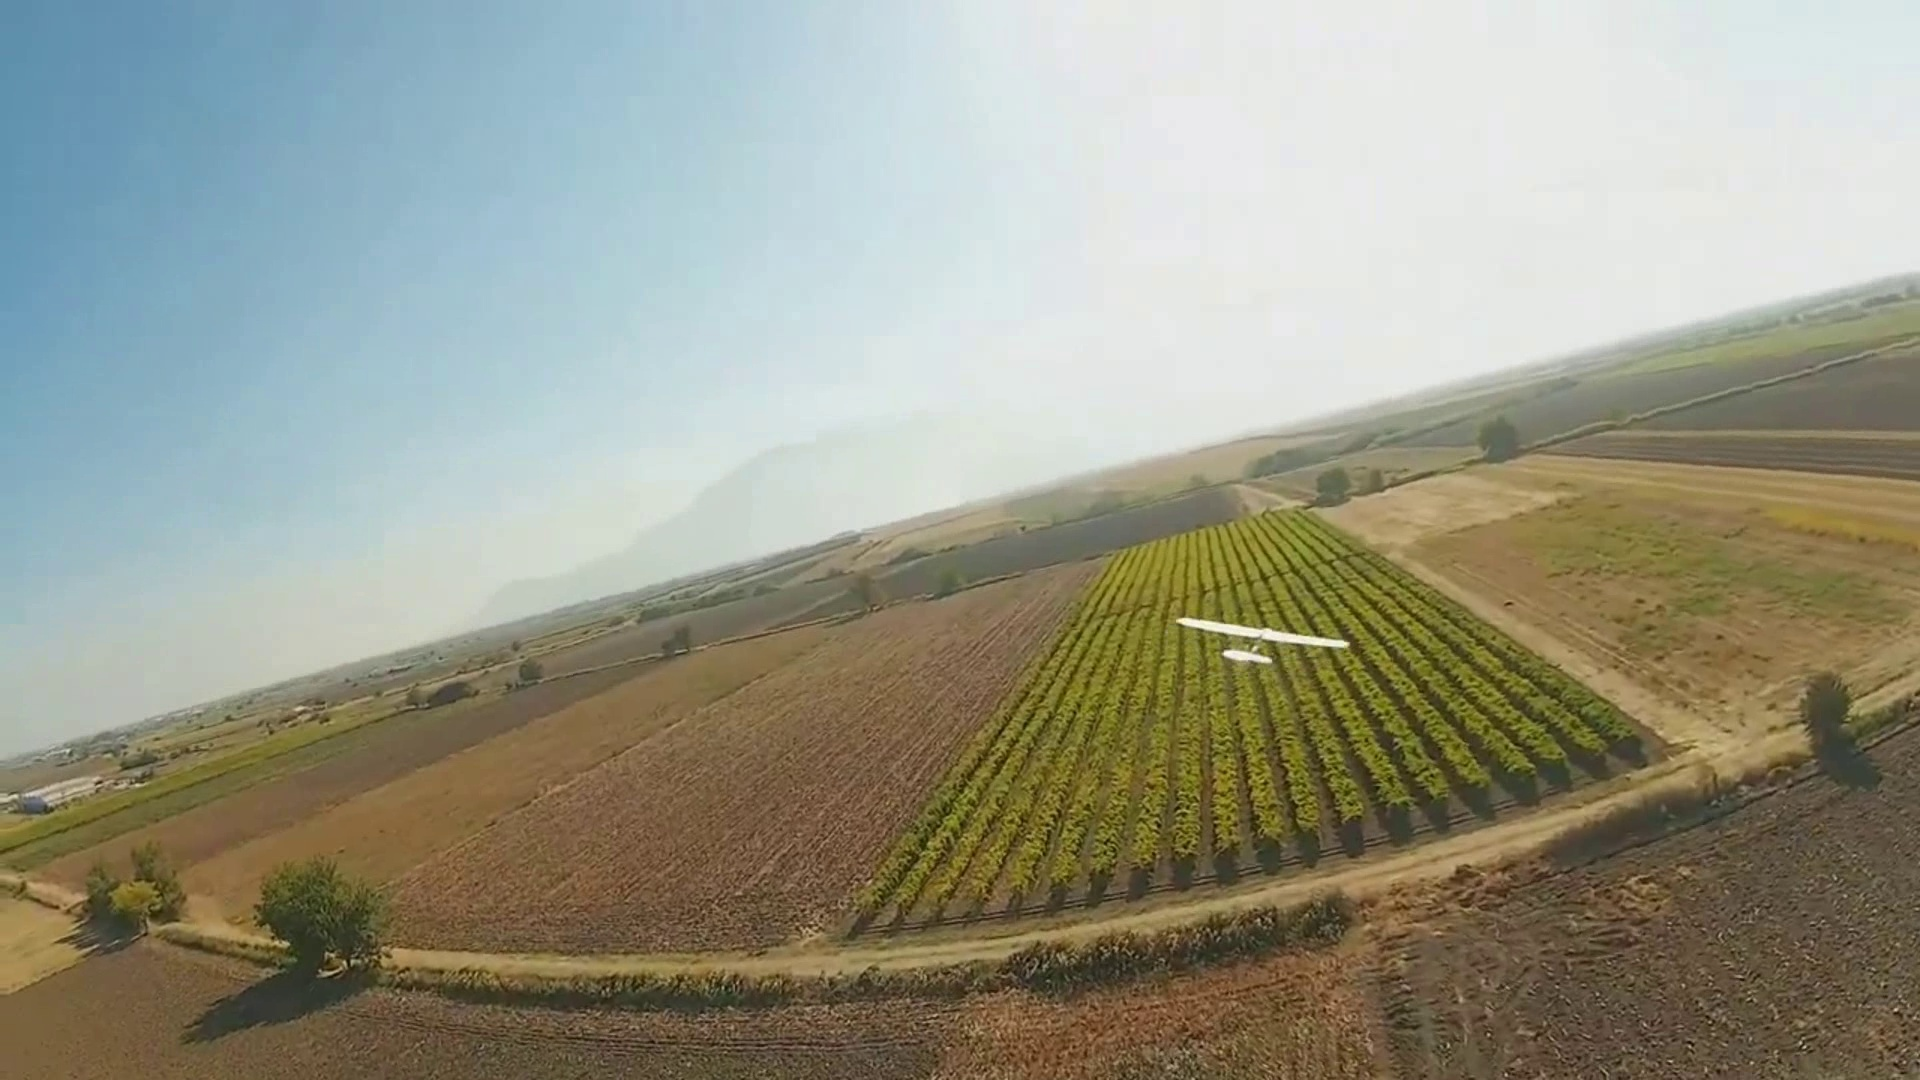airplane: (45, 258, 1919, 702)
